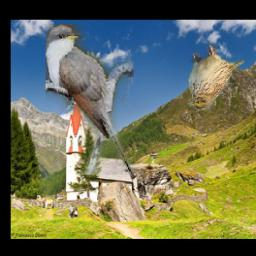Cuckoo: (47, 24, 135, 175)
Sparrow: (186, 45, 245, 111)
